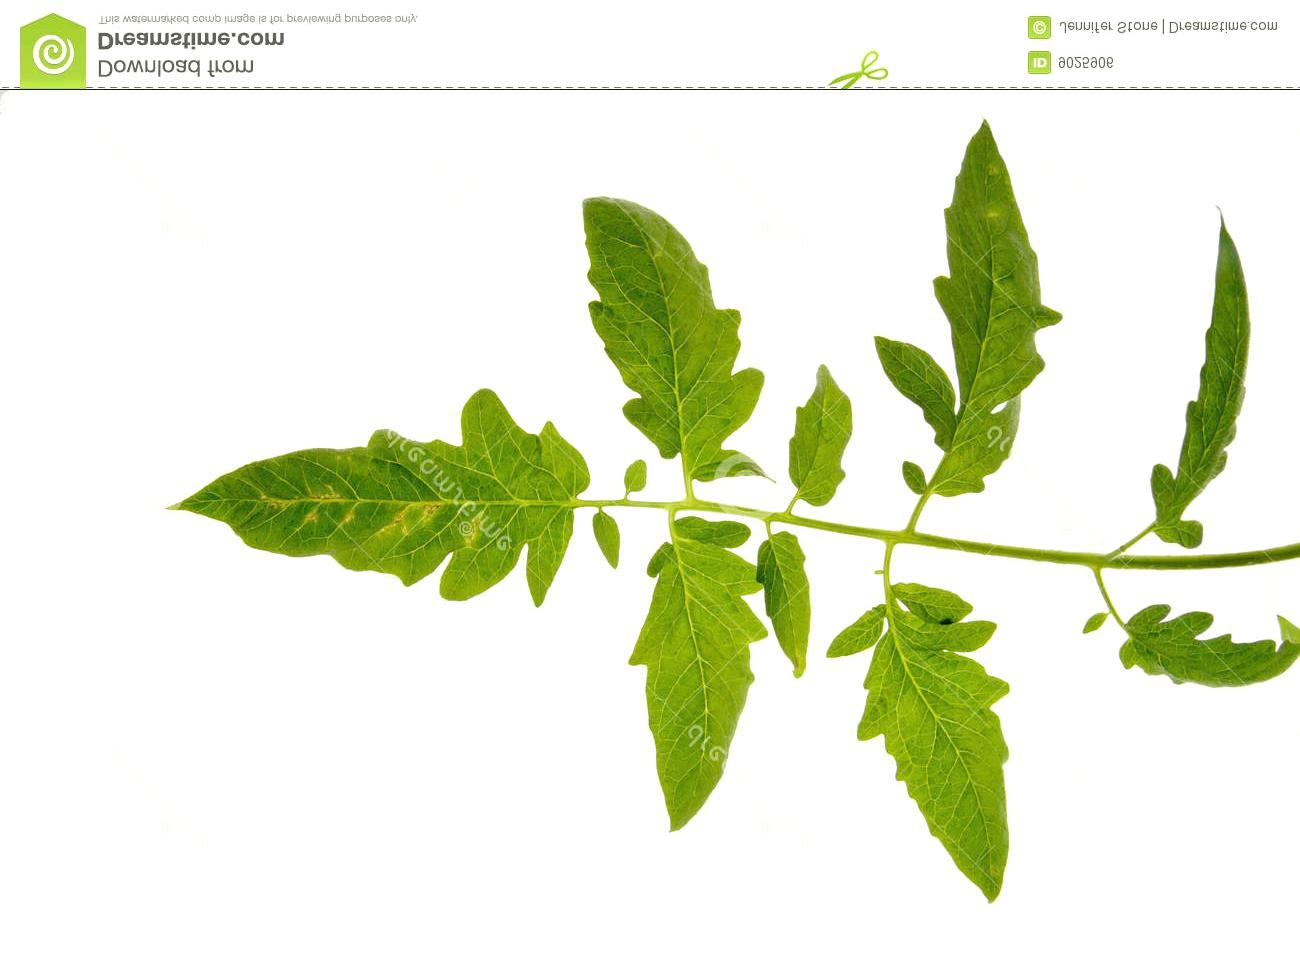Tomato leaf: (174, 348, 595, 628), (538, 139, 795, 507), (865, 98, 1073, 524), (807, 558, 1034, 931), (631, 496, 782, 878)
